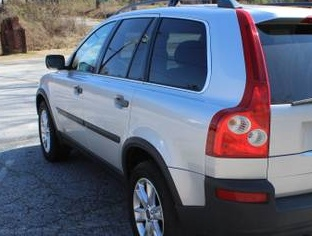volvo: (17, 1, 312, 234)
